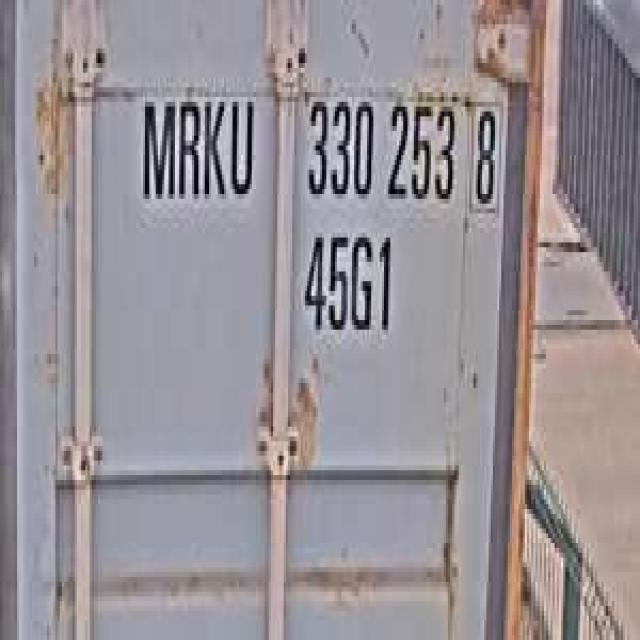dv: (465, 92, 506, 218)
owner: (137, 78, 258, 218)
serial: (301, 82, 458, 214)
size: (299, 218, 399, 344)
